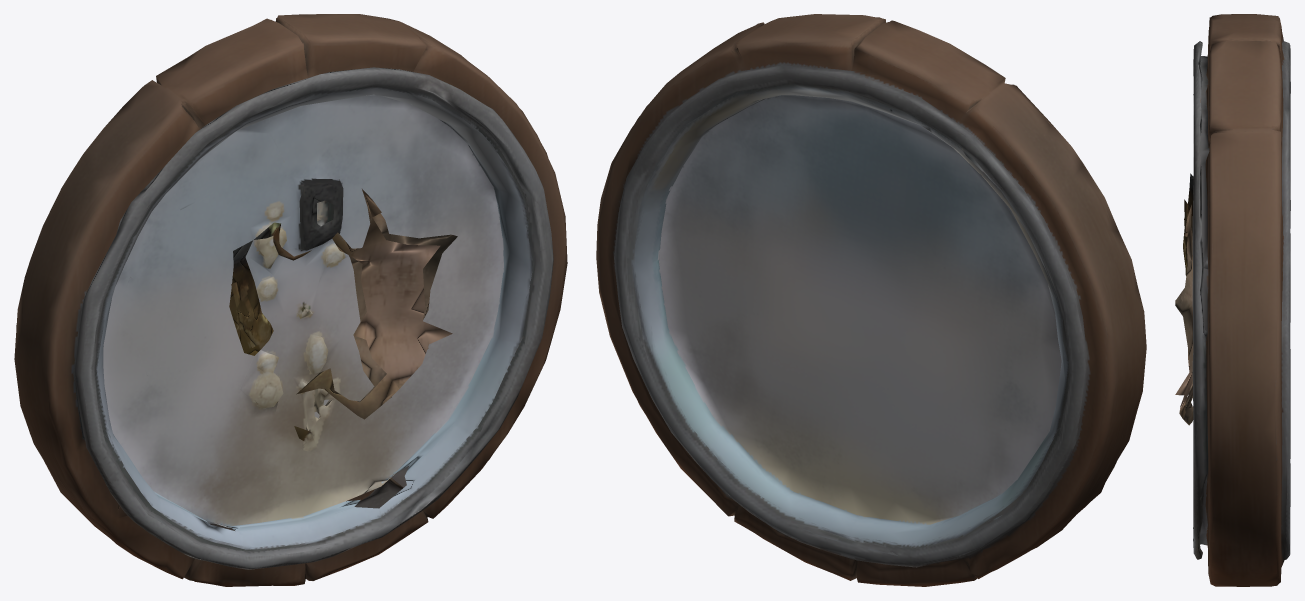
File: universitytoilet_RoundMirror.glb
3 renders of one model, left to right at view 1: azimuth 30°, elevation 25°; view 2: azimuth 150°, elevation 25°; view 3: azimuth 270°, elevation 25°, orthographic. The views are drawn at different scales.
Visible parts, largest first — view 1: world; view 2: world; view 3: world.
Boxes of the visible parts, x1,y1,x2,y2 form: world: (14, 14, 567, 586); world: (596, 14, 1146, 586); world: (1175, 14, 1290, 586).
Bounding box in the file's own units: 0.9991 × 0.9973 × 0.2006.
1 material, 1 textured.
